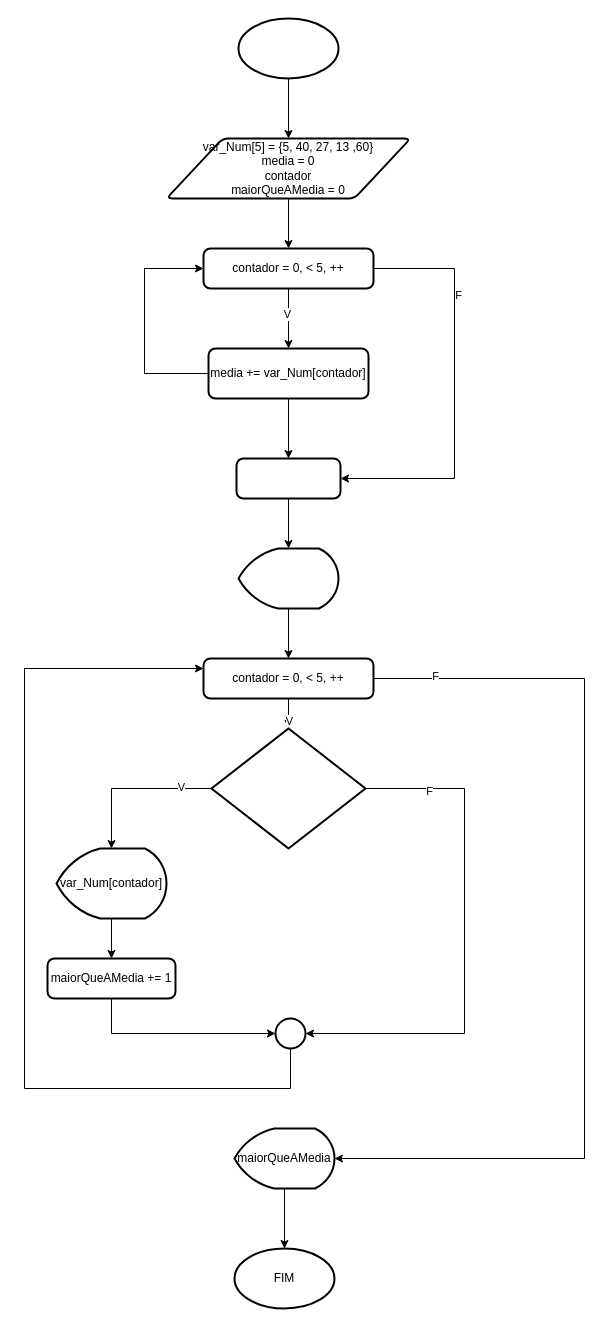
Image size: 610x1326. Some labels were removed from this diagram. Each missing label, with the centre of its shape:
INICIO: the point at 288,48
media: the point at 288,578
media = media / 5: the point at 288,478
var_Num[contador] > media: the point at 288,788
